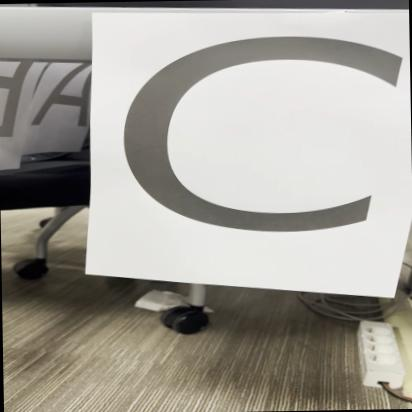seat: (88, 4, 412, 312)
